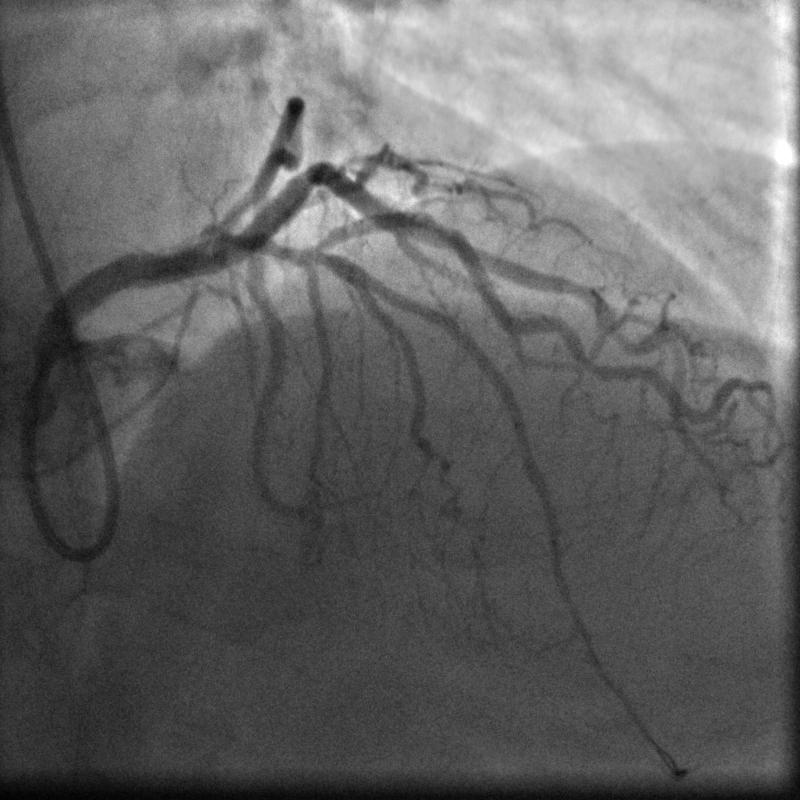Stenosis: (412, 206, 458, 242)
